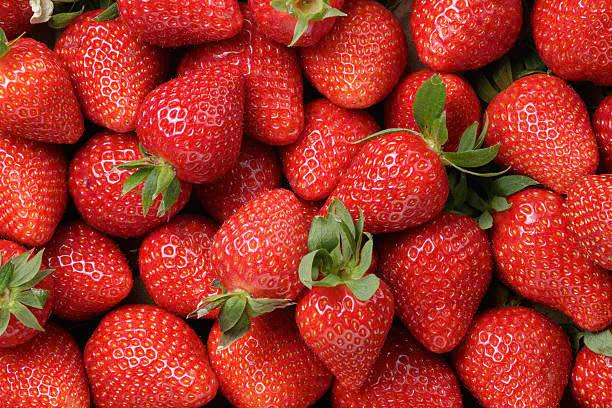strawberry: (493, 189, 612, 330), (475, 71, 601, 197), (390, 212, 491, 350), (317, 129, 453, 231), (291, 262, 394, 395), (85, 306, 219, 408), (138, 64, 246, 185), (453, 306, 581, 408), (206, 187, 310, 310), (56, 11, 155, 128), (72, 136, 194, 230), (306, 3, 406, 107), (1, 32, 80, 147), (412, 0, 528, 71), (2, 237, 58, 353)
